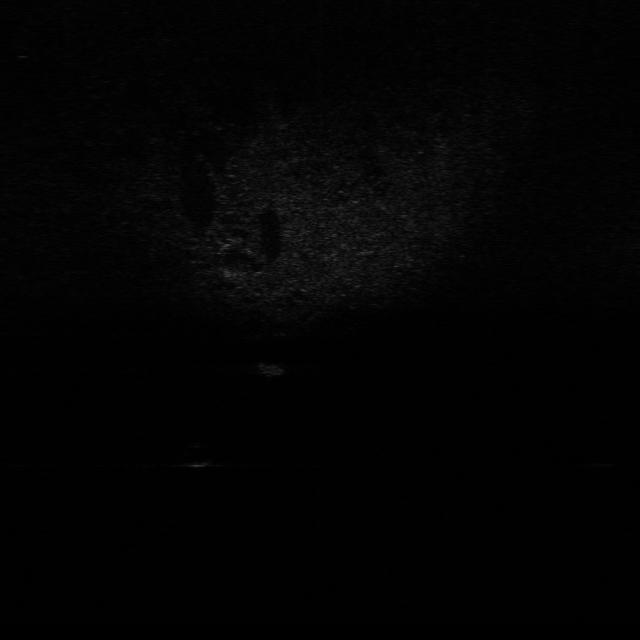ball: (177, 439, 221, 472)
cube: (256, 360, 290, 378)
